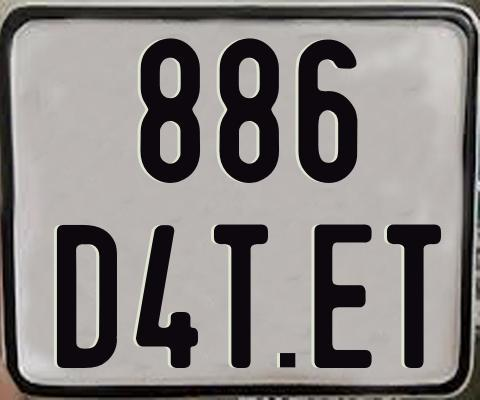4: (134, 223, 196, 371)
6: (296, 38, 362, 185)
8: (217, 38, 282, 188), (140, 36, 205, 184)
D: (54, 225, 118, 372)
E: (312, 221, 375, 366)
T: (214, 223, 272, 373), (384, 221, 441, 368)
